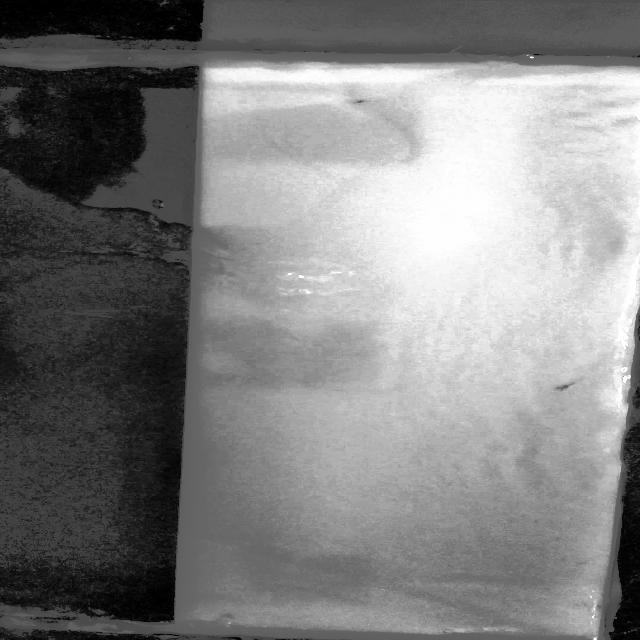shrimp: (550, 378, 588, 393), (333, 96, 381, 107)
